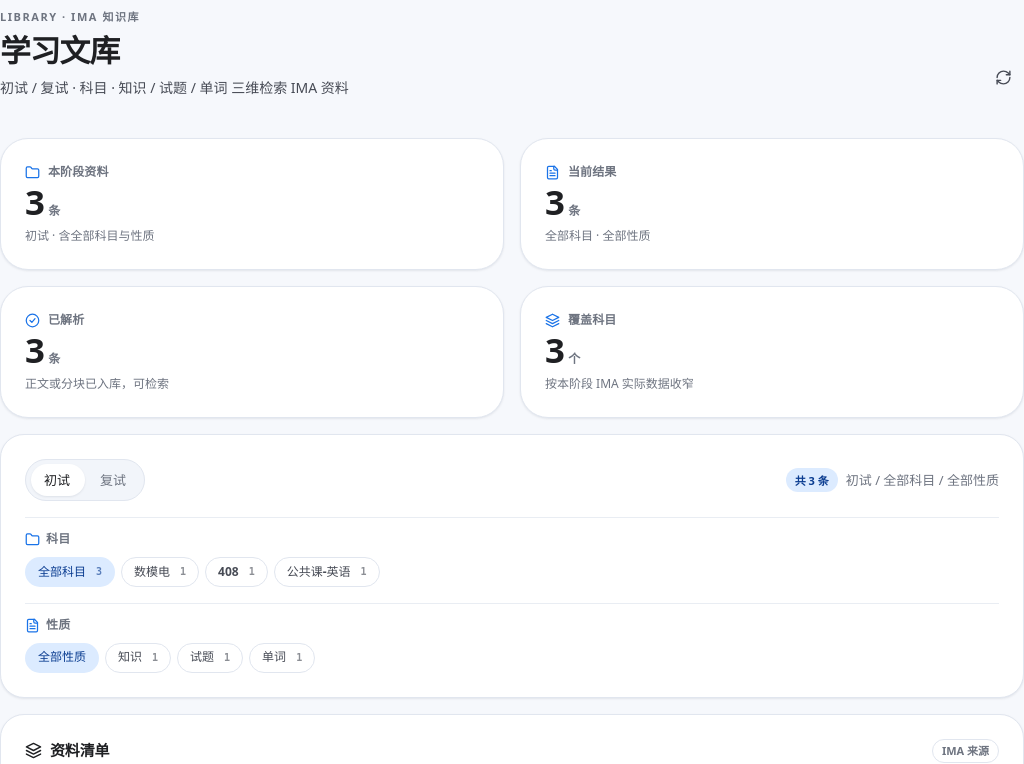
学习文库 Library 页面 › 筛选组合无结果时显示友好空态，而不是白屏
What coordinates should you click on to do the following:
click the tab "复试"
I would click on:
 (113, 480)
Its box is top-left (86, 464), bottom-right (140, 496).
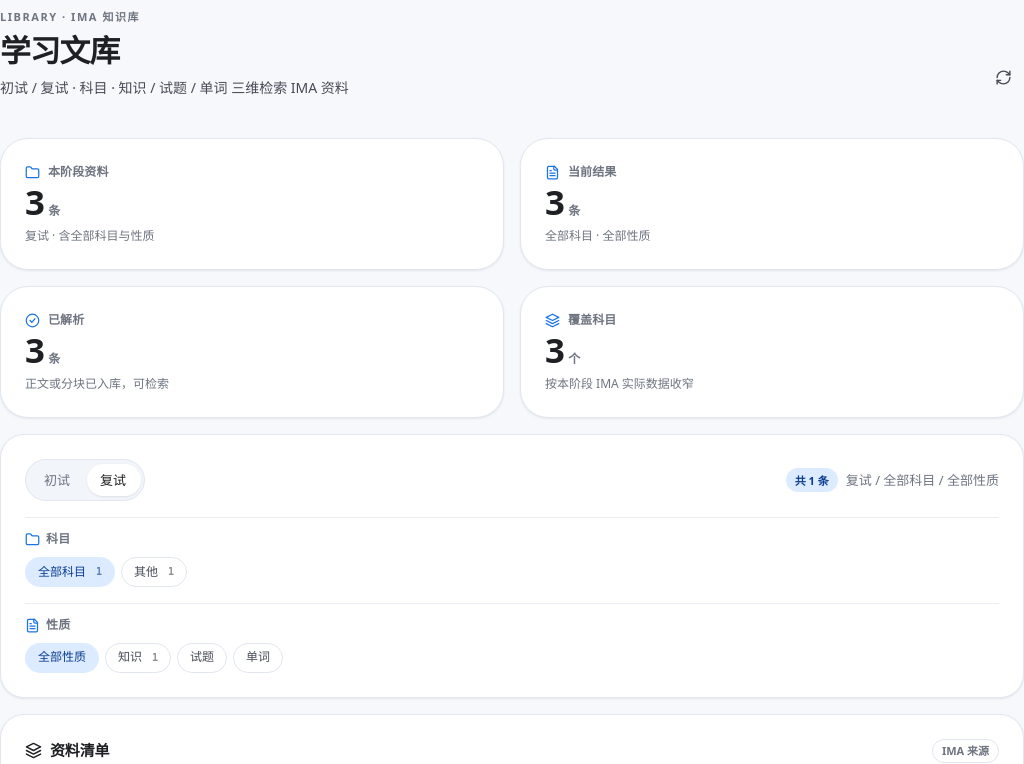
What coordinates should you click on to do the following:
click the button "单词"
I would click on:
 (258, 658)
Its box is top-left (233, 642), bottom-right (283, 672).
(page scrolled)
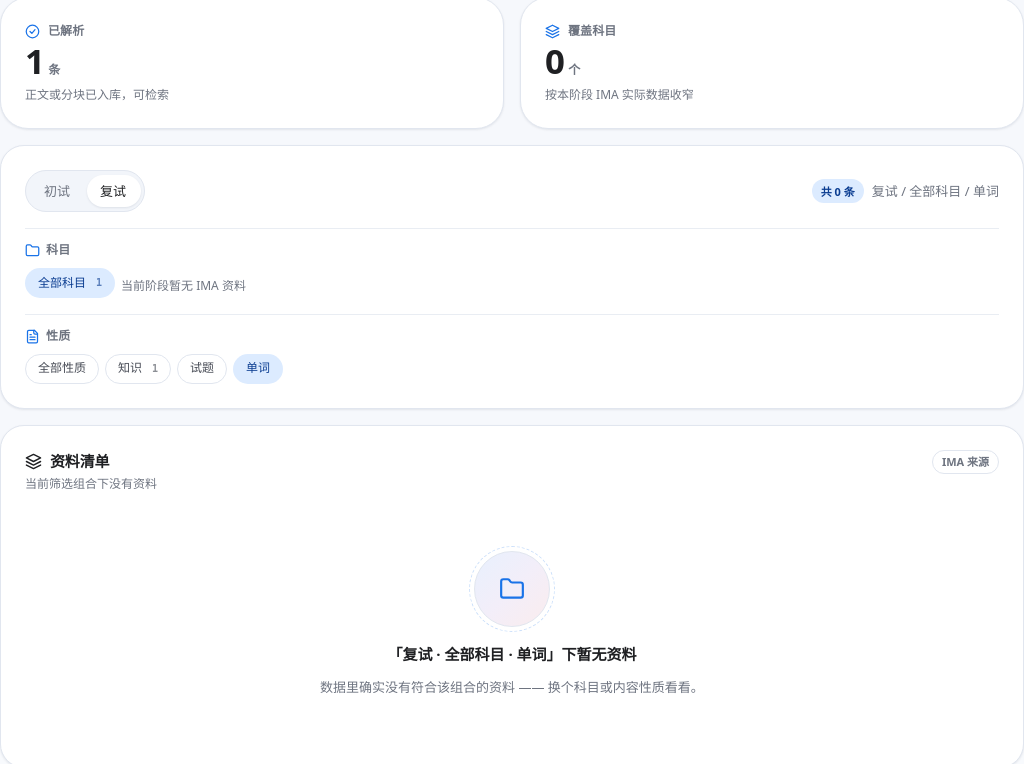
Result: the text "「复试 · 全部科目 · 单词」下暂无资料" is shown at top-left (387, 643), bottom-right (637, 667)
